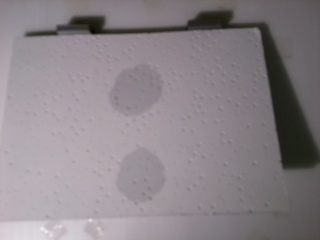Water_detected: (119, 66, 165, 108), (126, 152, 166, 195)
